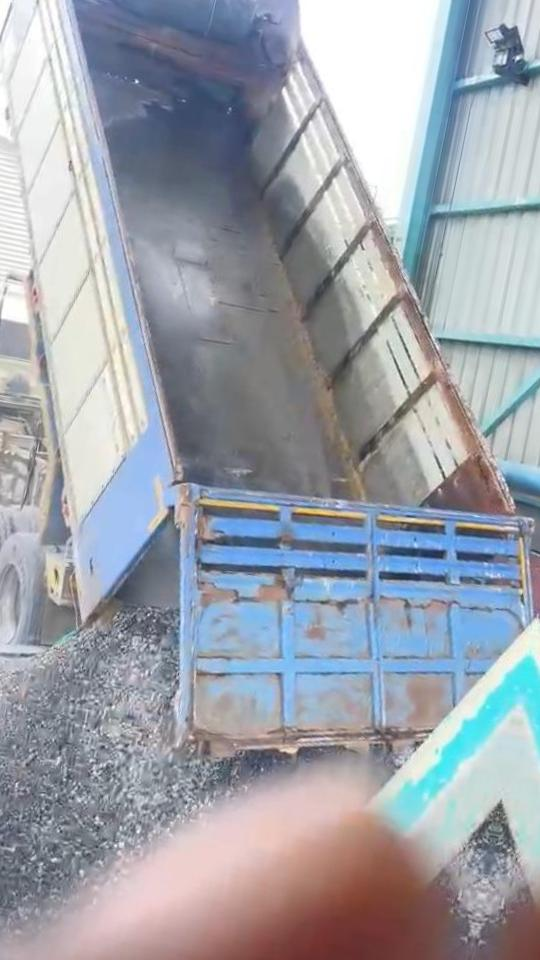gravel: (0, 609, 275, 944), (461, 833, 495, 914)
